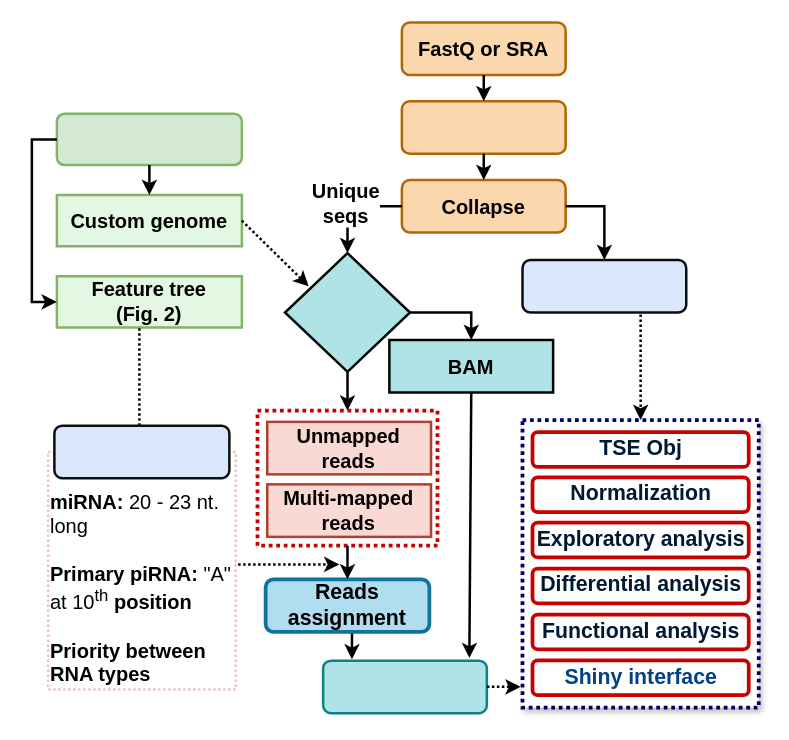
Image size: 789x740. Some labels were removed from this diagram. Each missing label, with the centre of its shape:
"Alignment" belongs at [347,311].
"Count matrix" belongs at [604,285].
"Customisable assignment rules" belongs at [141,451].
"Fragments tree" belongs at [404,686].
"QC" belongs at [483,126].
"Sources (Fig. 1)" belongs at [148,139].
